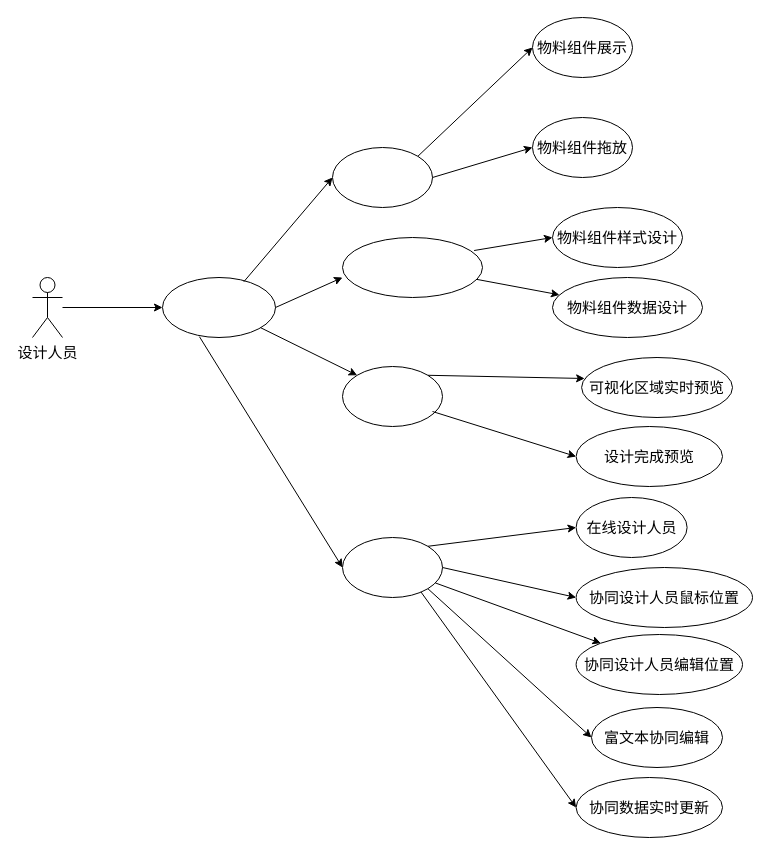
Some shapes in this 770 by 855 pixel diagram are drawn without their labels. The shapes that lost their labels are listed below. From the top down, each one's box as (x1, y1, x2, y2) in pixels, then its label:
(332, 146, 432, 208): 物料组件区域
(342, 236, 482, 298): 物料组件属性面板
(162, 276, 276, 338): H5活动页面设计
(342, 366, 442, 426): 设计预览
(342, 536, 442, 598): 协同设计
